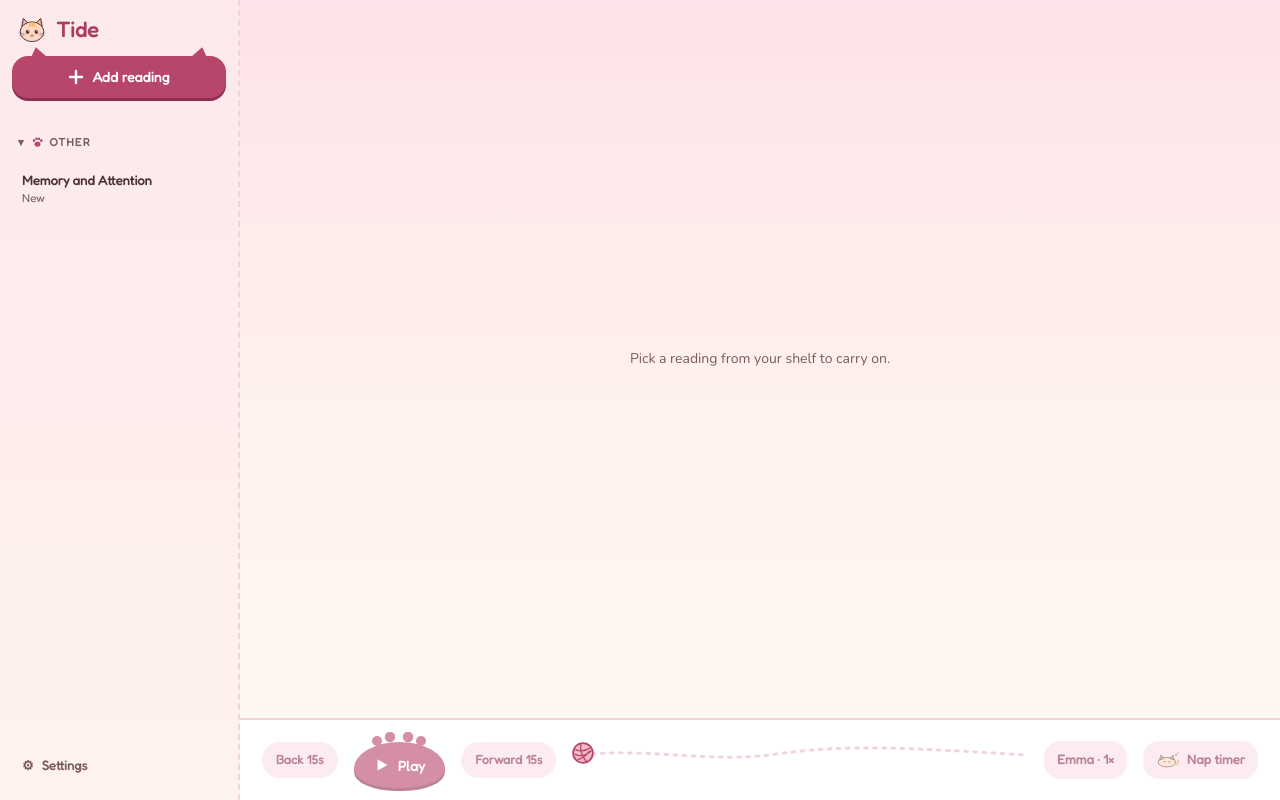
Scenario: Kitty Nap timer › shows "Nap timer" with a kitten while the accessible name stays "Sleep"
Click the button "Memory and Attention New" at (119, 189), box [12,164,226,214]
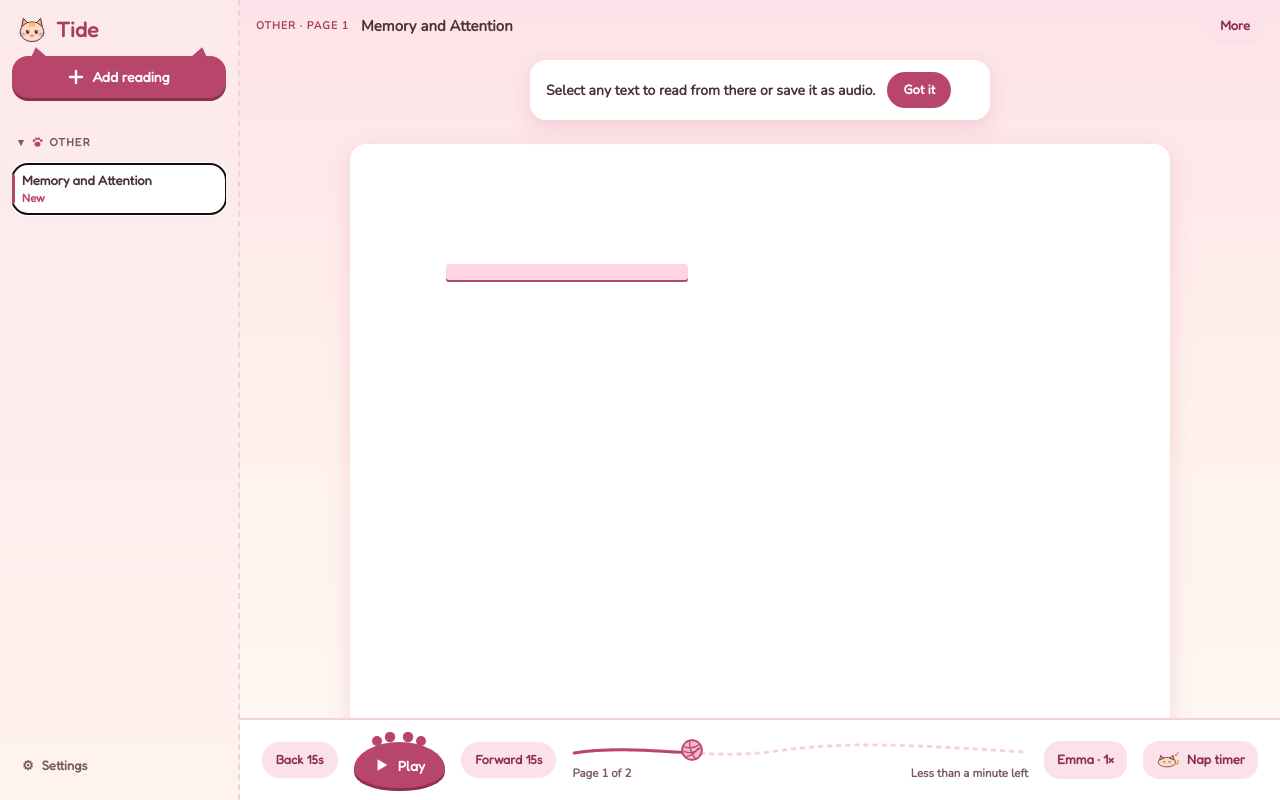
Expected: the button with aria-label "Sleep" shows "Nap timer", [1143,741,1258,779]
Now the element with test id "sentence-highlight" is shown, box [446,264,688,282]
